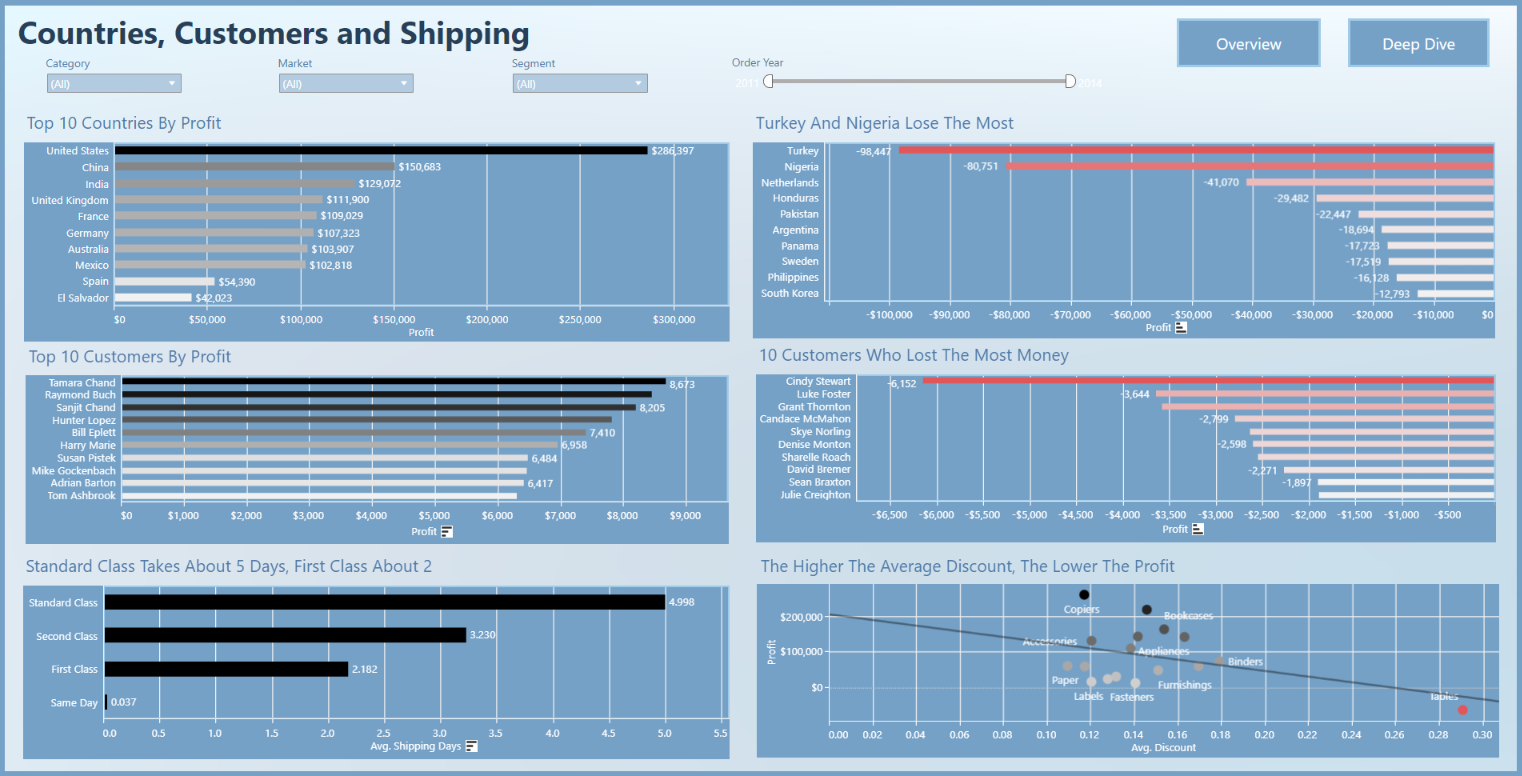

This screenshot's page, from the dashboard's own definition file:
{"tool":"tableau","page":{"name":"Deep Dive","canvas":[1000,1000],"units":"permille","ordinal":0},"visuals":[{"type":"image","param":"Image/background_white_panel.png","box":[6.1,10.3,987.8,979.5]},{"type":"title","box":[16,16.7,403.7,64.1]},{"type":"dashboard-object","box":[770.8,32,93.7,61.5]},{"type":"dashboard-object","box":[882,32,92.9,61.5]},{"type":"filter","title":"Country Bars(Top 10)","param":"[federated.02n3qql18poff212zbrag11mg8hr].[none:order_year:qk]","box":[481.3,78.2,243,59]},{"type":"filter","title":"Country Bars(Top 10)","param":"[federated.02n3qql18poff212zbrag11mg8hr].[none:category:nk]","box":[34.3,79.5,89.1,55.1]},{"type":"filter","title":"Country Bars(Top 10)","param":"[federated.02n3qql18poff212zbrag11mg8hr].[none:market:nk]","box":[185.8,79.5,89.1,55.1]},{"type":"filter","title":"Country Bars(Top 10)","param":"[federated.02n3qql18poff212zbrag11mg8hr].[none:segment:nk]","box":[338.2,79.5,89.1,56.4]},{"type":"worksheet","title":"Country Bars(Top 10)","mark":"Automatic","rows":["country"],"cols":["profit"],"box":[19.8,143.6,460,297.4]},{"type":"worksheet","title":"Country Bars(Bottom 10)","mark":"Automatic","rows":["country"],"cols":["profit"],"box":[494.3,143.6,483.6,293.6]},{"type":"worksheet","title":"Loss Customers","mark":"Automatic","rows":["customer_name"],"cols":["profit"],"box":[495.8,437.2,482.9,257.7]},{"type":"worksheet","title":"Top Customers","mark":"Automatic","rows":["customer_name"],"cols":["profit"],"box":[20.6,438.5,458.5,259]},{"type":"worksheet","title":"Shipping","mark":"Automatic","rows":["ship_mode"],"cols":["shipping_days"],"box":[19,703.9,460.8,265.4]},{"type":"worksheet","title":"Discount Scatter","mark":"Automatic","rows":["profit"],"cols":["discount"],"box":[497.3,703.9,482.9,262.8]}]}

Visuals, with their boxes on the dashboard's canvas, which has no fixed pixel size, in thousandths of its width and height (x1, y1, x2, y2). These are canvas units, not pixel positions in the 1522x776 screenshot, which may show the page scaled, cropped or inside an application window:
image: 6:10:994:990
title: 16:17:420:81
dashboard-object: 771:32:864:94
dashboard-object: 882:32:975:94
"Country Bars(Top 10)" filter: 481:78:724:137
"Country Bars(Top 10)" filter: 34:80:123:135
"Country Bars(Top 10)" filter: 186:80:275:135
"Country Bars(Top 10)" filter: 338:80:427:136
"Country Bars(Top 10)" worksheet: 20:144:480:441
"Country Bars(Bottom 10)" worksheet: 494:144:978:437
"Loss Customers" worksheet: 496:437:979:695
"Top Customers" worksheet: 21:438:479:698
"Shipping" worksheet: 19:704:480:969
"Discount Scatter" worksheet: 497:704:980:967
